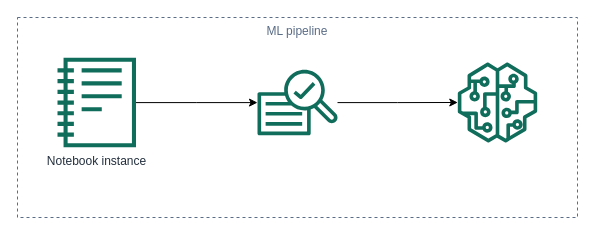
Some shapes in this 595 by 235 pixel diagram are drawn without their labels. The shapes that lost their labels are listed below. From the top down, each one's centre as x and y in pixels, then its label:
At (x=297, y=102): "Training job".
At (x=497, y=102): "Inference endpoint".
